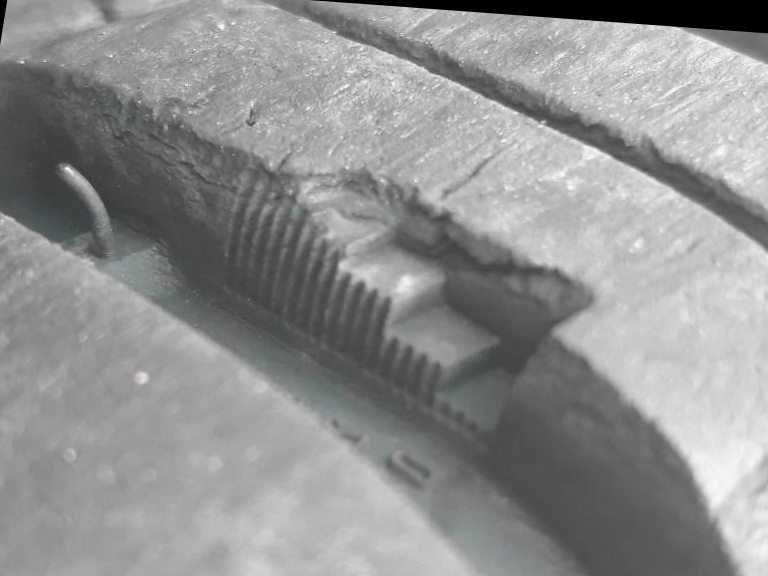temoin:80: (176, 122, 639, 471)
